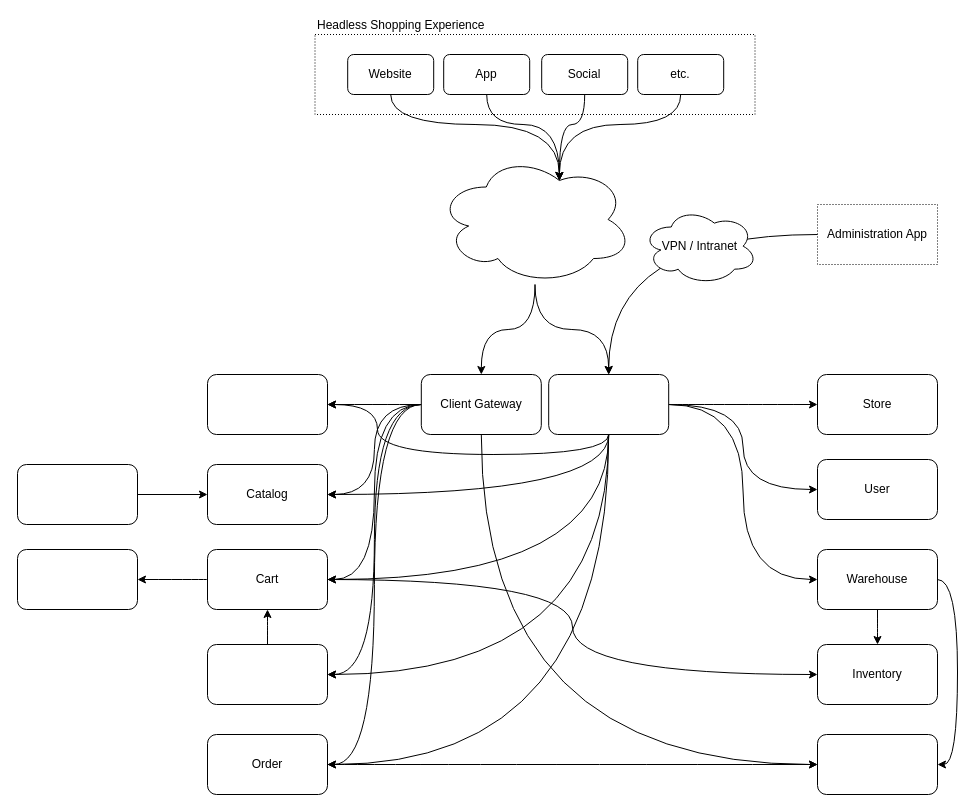
The diagram is 975 pixels wide and 812 high, and some of its shapes have lost their labels. The centre of each missing label's shape, as x and y in pixels:
"Admin Gateway" goes at point (608, 404).
"Customer" goes at point (267, 404).
"Internet" goes at point (534, 219).
"OthersBought" goes at point (77, 579).
"Payment" goes at point (267, 674).
"Shipping" goes at point (877, 764).
"SimilarProducts" goes at point (77, 494).
